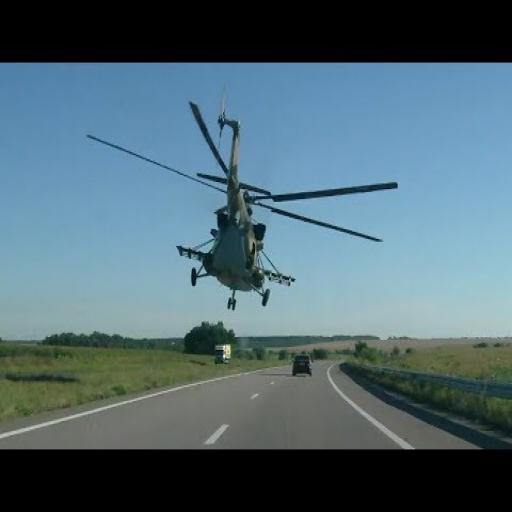helicopter: (87, 90, 399, 314)
